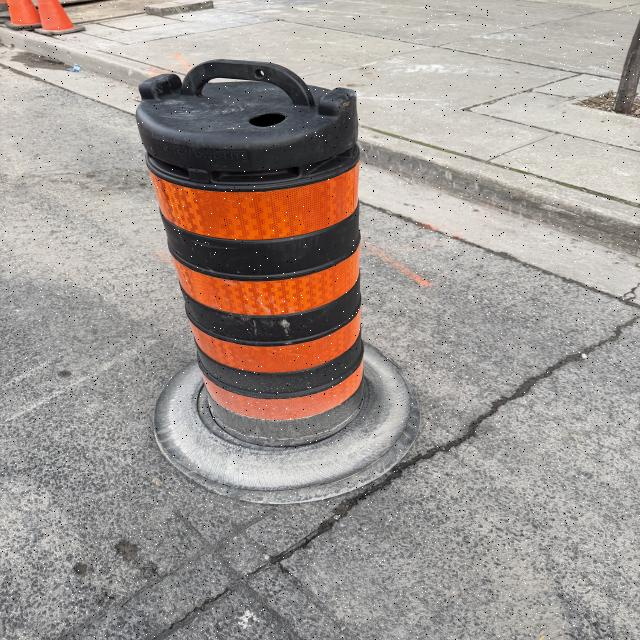Teraffic Barrel: (137, 60, 417, 501), (34, 0, 86, 36), (5, 0, 41, 30)
